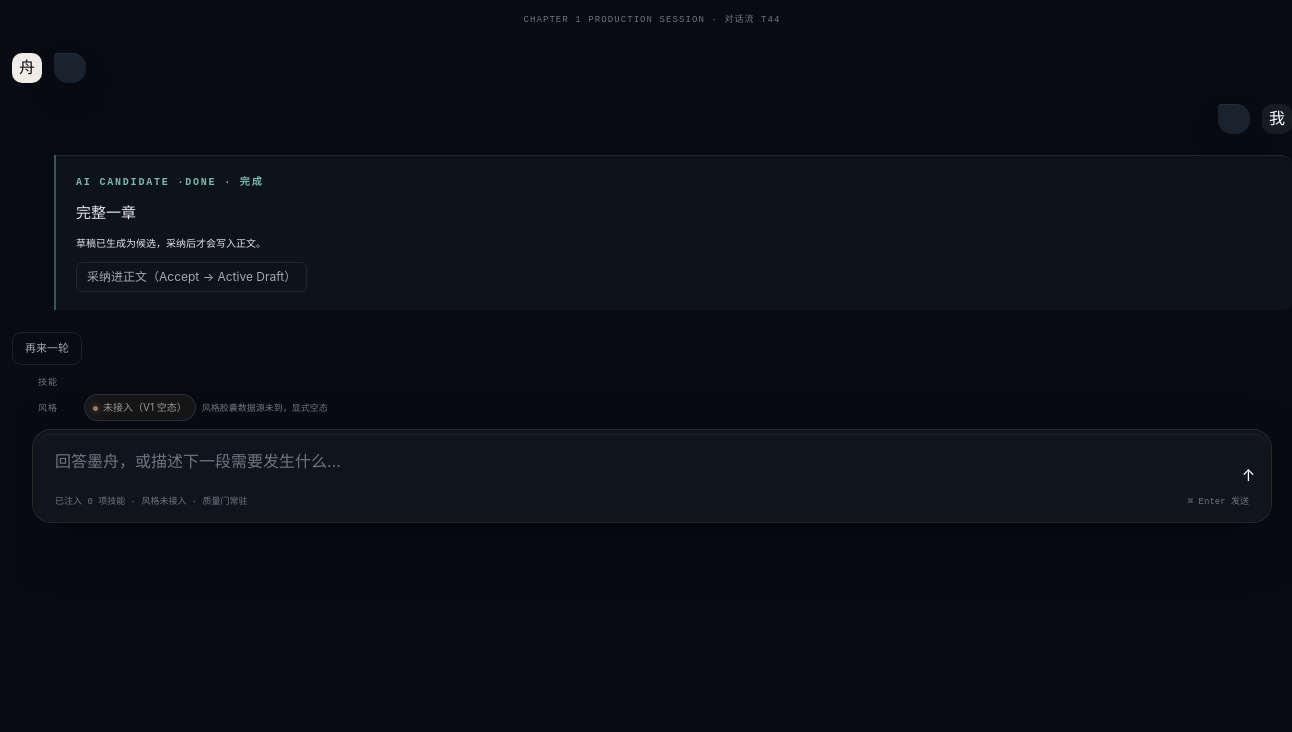
DialogueStream · 草稿终帧诚实性 › 未知 contextMode 也要透出，不得只认 structural_fallback
Step 1. Type "继续写" into the text box named "写作指令" → (645, 466), box x1=49 y1=444 x2=1242 y2=486
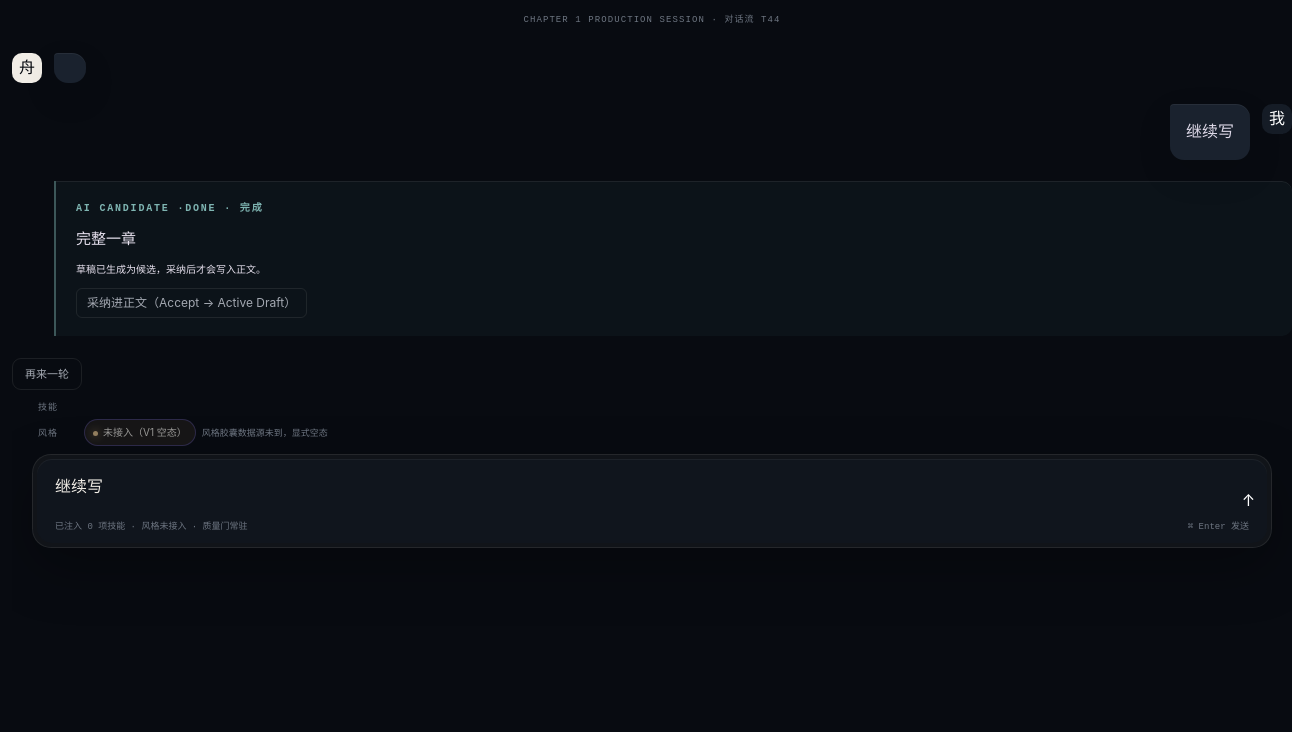
Step 2. Click the button named "发送" → (1248, 500), box x1=1242 y1=488 x2=1255 y2=512
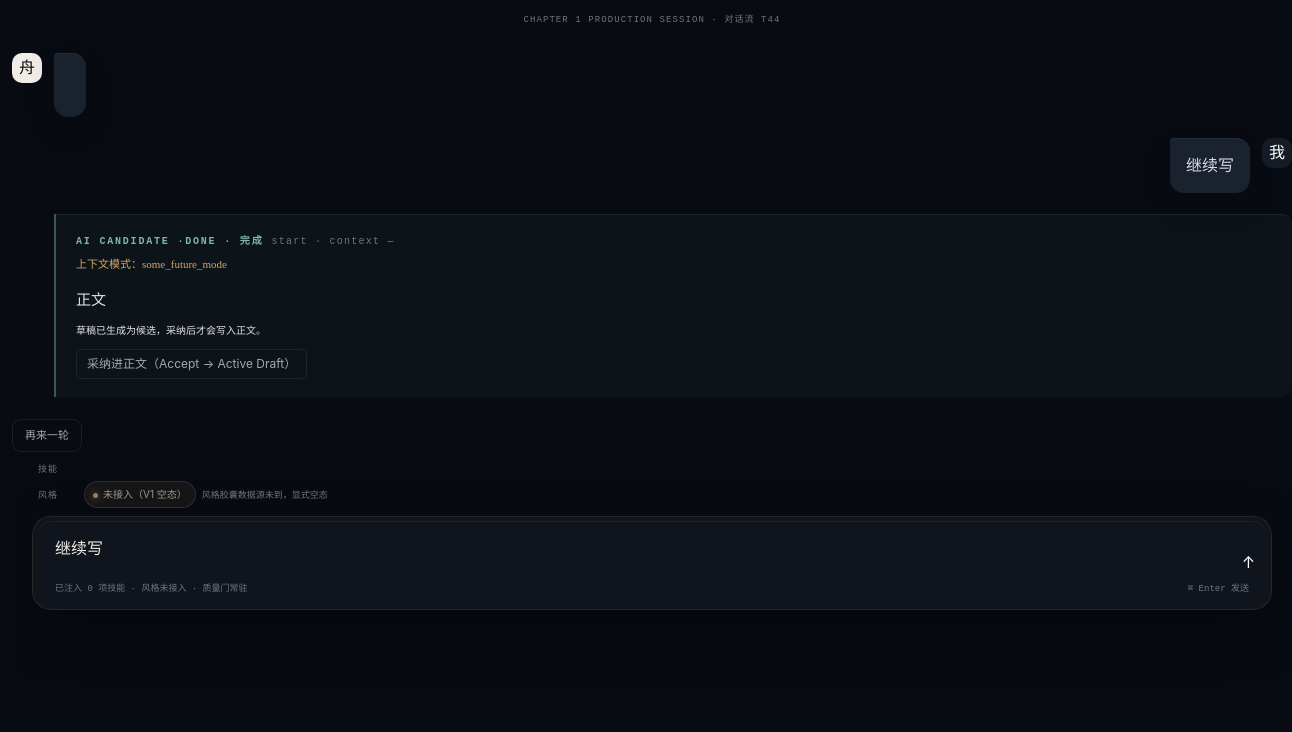
expect the message with test id "context-degraded" shows "some_future_mode": met, box x1=76 y1=258 x2=227 y2=270
